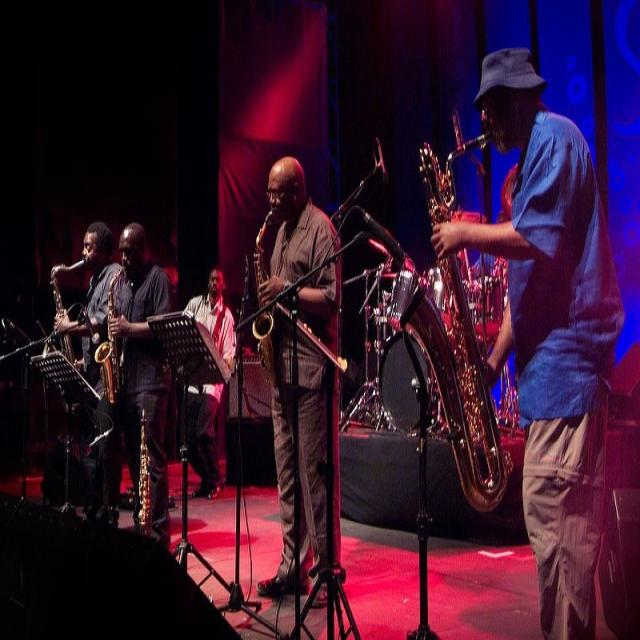drums: (334, 220, 520, 448)
saxophone: (405, 131, 516, 516), (250, 208, 283, 394), (95, 267, 131, 407), (49, 249, 88, 357), (138, 411, 156, 536)
